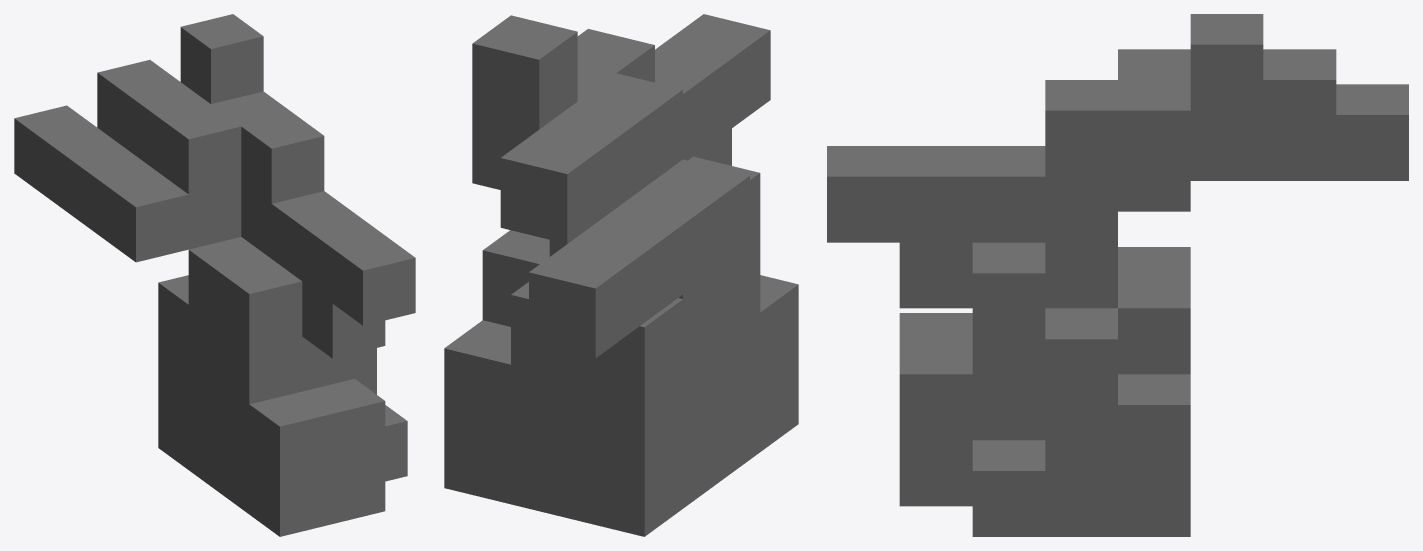
File: Golem leg 1.obj
The picture shows the model from 3 angles, left to right: view 1: azimuth 30°, elevation 25°; view 2: azimuth 150°, elevation 25°; view 3: azimuth 270°, elevation 25°; orthographic projection. The views are drawn at different scales.
Bounding box in the file's own units: 4 × 7 × 8.
Materials: 1 (1 with a texture image).
